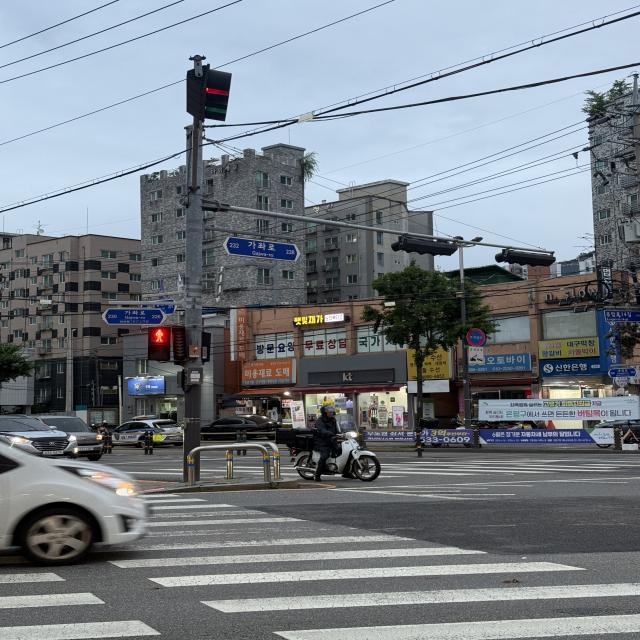car: (0, 436, 178, 576), (0, 412, 83, 462), (96, 410, 192, 452), (186, 412, 292, 444)
motorcycle: (277, 401, 392, 486)
